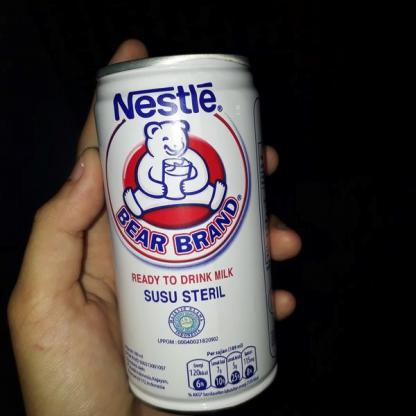bottle: (84, 47, 283, 416)
